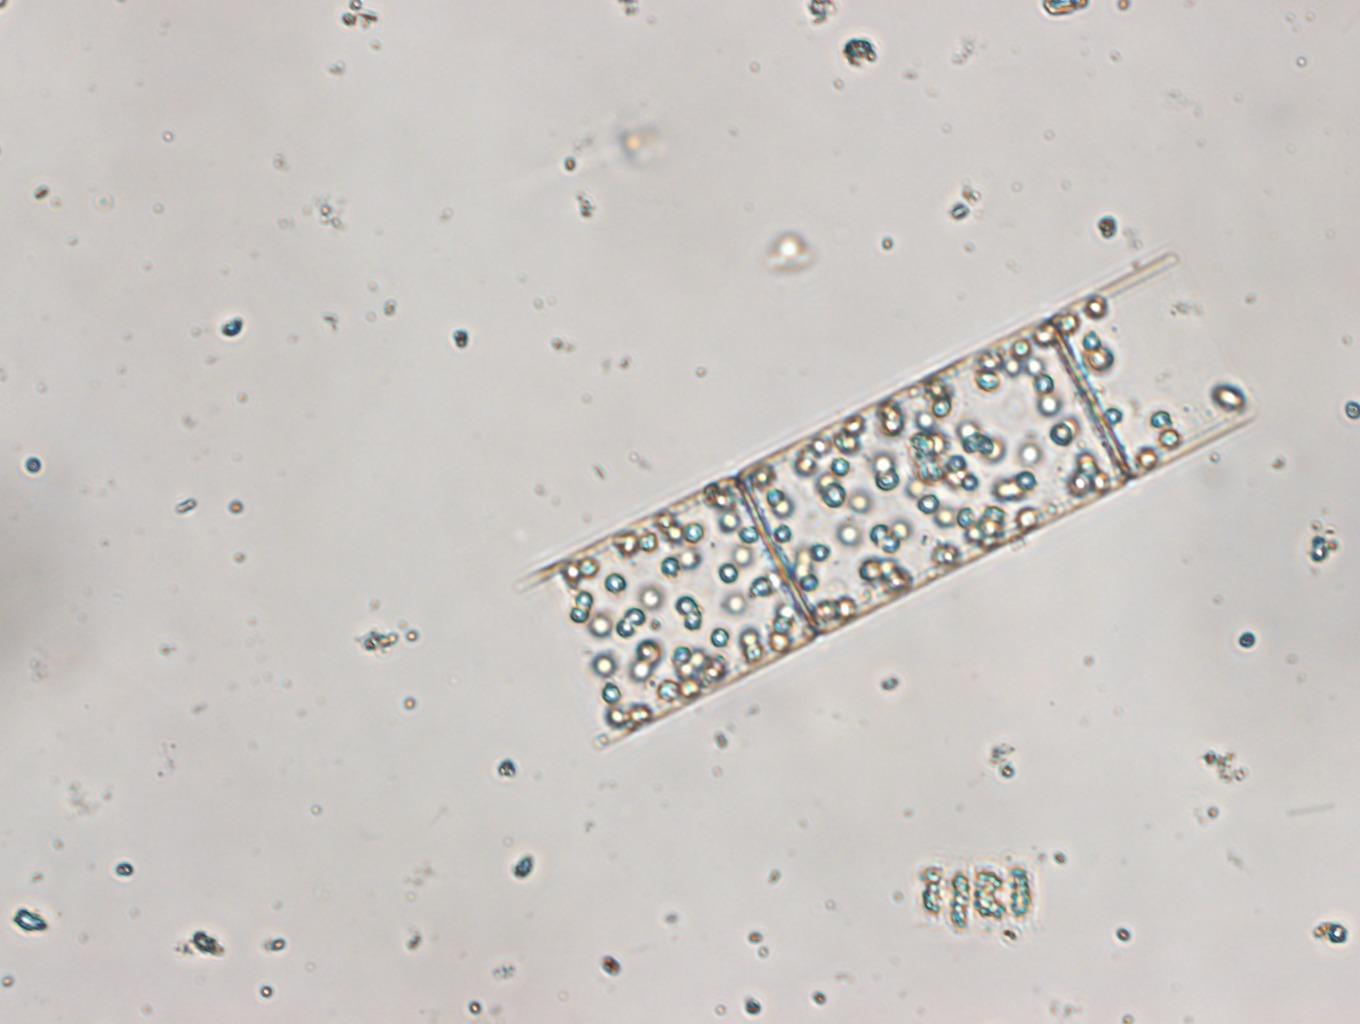guinardia flaccida: (512, 250, 1259, 752)
